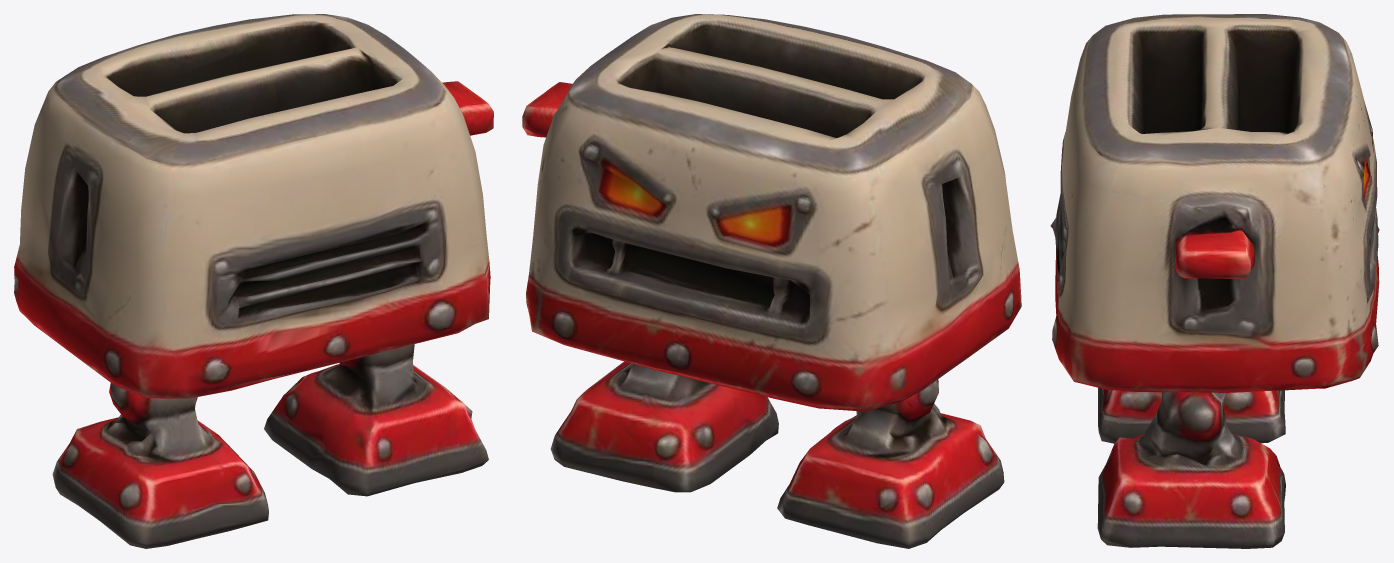
Rendered from house-minion-toaster.glb.
3 renders of one model, left to right at view 1: azimuth 30°, elevation 25°; view 2: azimuth 150°, elevation 25°; view 3: azimuth 270°, elevation 25°, orthographic. The views are drawn at different scales.
Parts seen in each view (by area): view 1: model; view 2: model; view 3: model.
Part boxes in pixels (bbox=[...]): model: bbox=[14, 14, 493, 548]; model: bbox=[522, 14, 1021, 548]; model: bbox=[1050, 14, 1379, 548].
Bounding box in the file's own units: 0.9993 × 0.9043 × 0.6953.
1 material, 1 textured.
